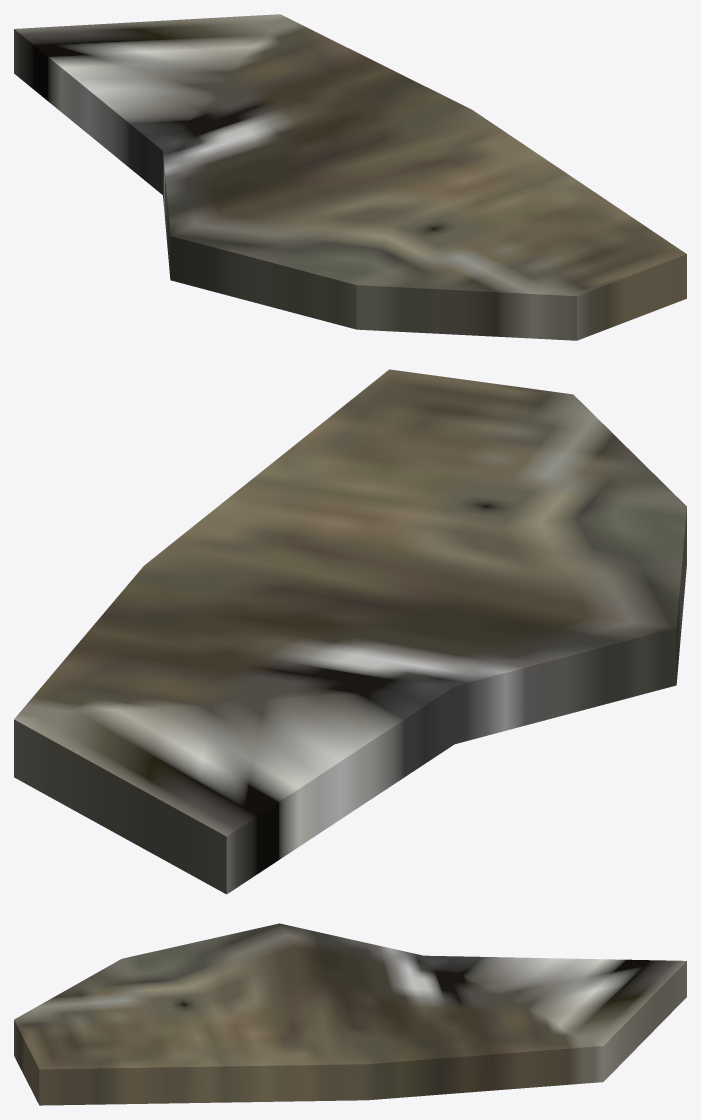
Rendered from USA - Aviation - Cargo Plane - Damage State 5 - AvCargoPln_d5.glb.
3 renders of one model, top to bottom at view 1: azimuth 30°, elevation 25°; view 2: azimuth 150°, elevation 25°; view 3: azimuth 270°, elevation 25°, orthographic. The views are drawn at different scales.
Visible parts, largest first — view 1: AVCARGOPLN_D5; view 2: AVCARGOPLN_D5; view 3: AVCARGOPLN_D5.
Boxes of the visible parts, bbox=[...] form: AVCARGOPLN_D5: bbox=[14, 14, 686, 340]; AVCARGOPLN_D5: bbox=[14, 369, 686, 894]; AVCARGOPLN_D5: bbox=[14, 923, 686, 1105].
Bounding box in the file's own units: 6.5 × 0.75 × 12.66.
Materials: 1 (1 with a texture image).
